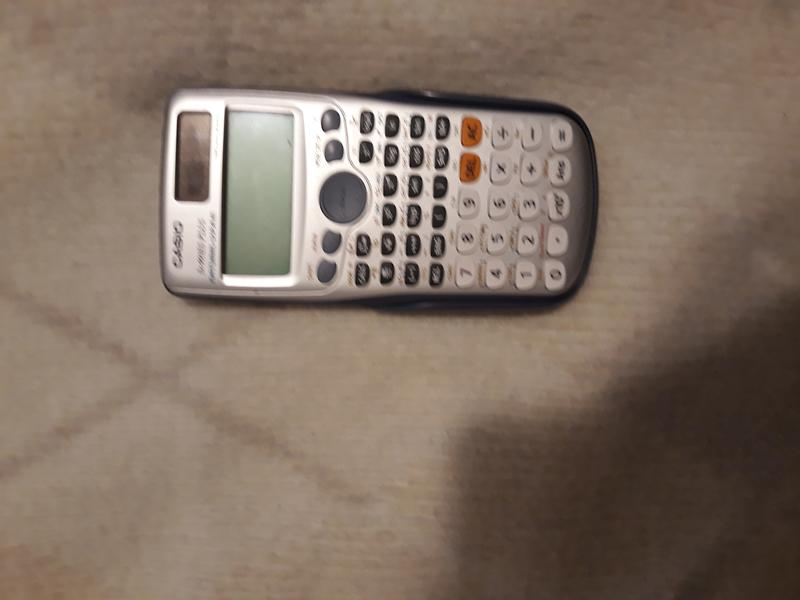CASIO_fx_991ES_PLUS: (144, 72, 631, 316)
